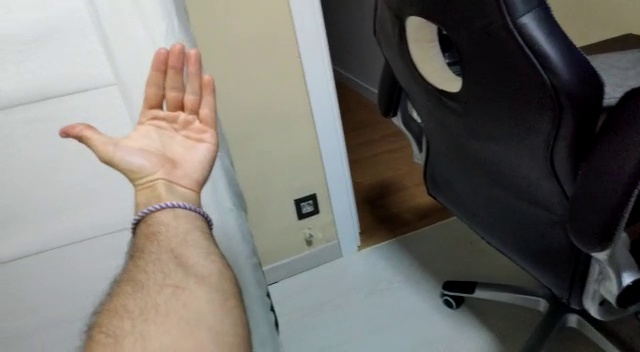Palm: (54, 41, 220, 196)
